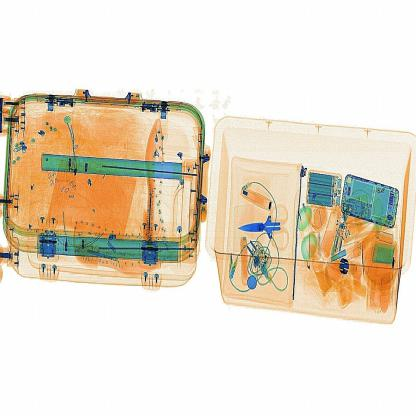gun: (236, 201, 294, 256)
